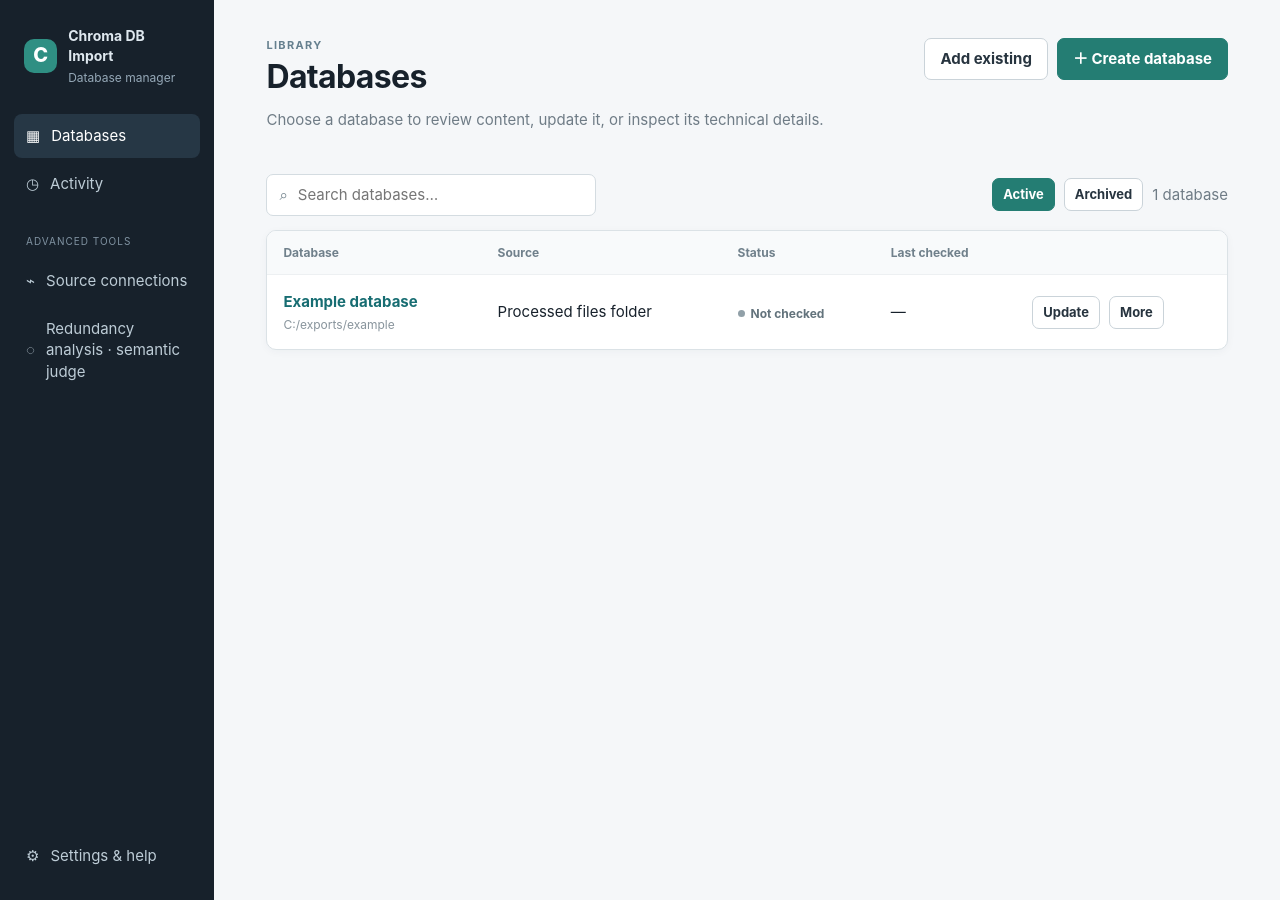
Test case: modern database creation flow › offers a non-persistent content selection for an update review
Expected: the button "Example database" is shown, x1=283 y1=291 x2=418 y2=313
Click the button "Update".
click(1066, 312)  # box x1=1032 y1=296 x2=1100 y2=328
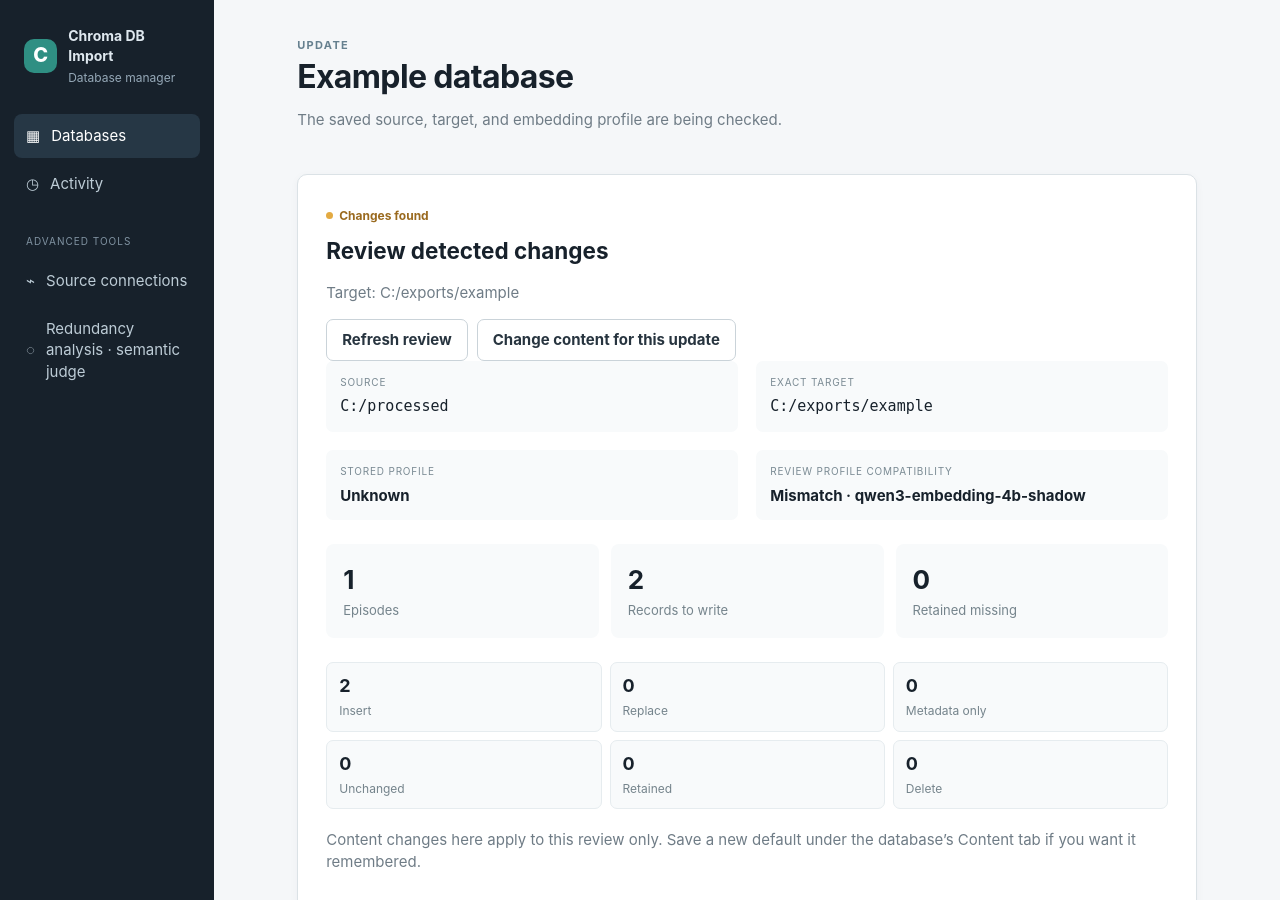
Expected: the button "Change content for this update" is shown
Click the button "Change content for this update".
click(606, 340)  # box x1=477 y1=319 x2=736 y2=361
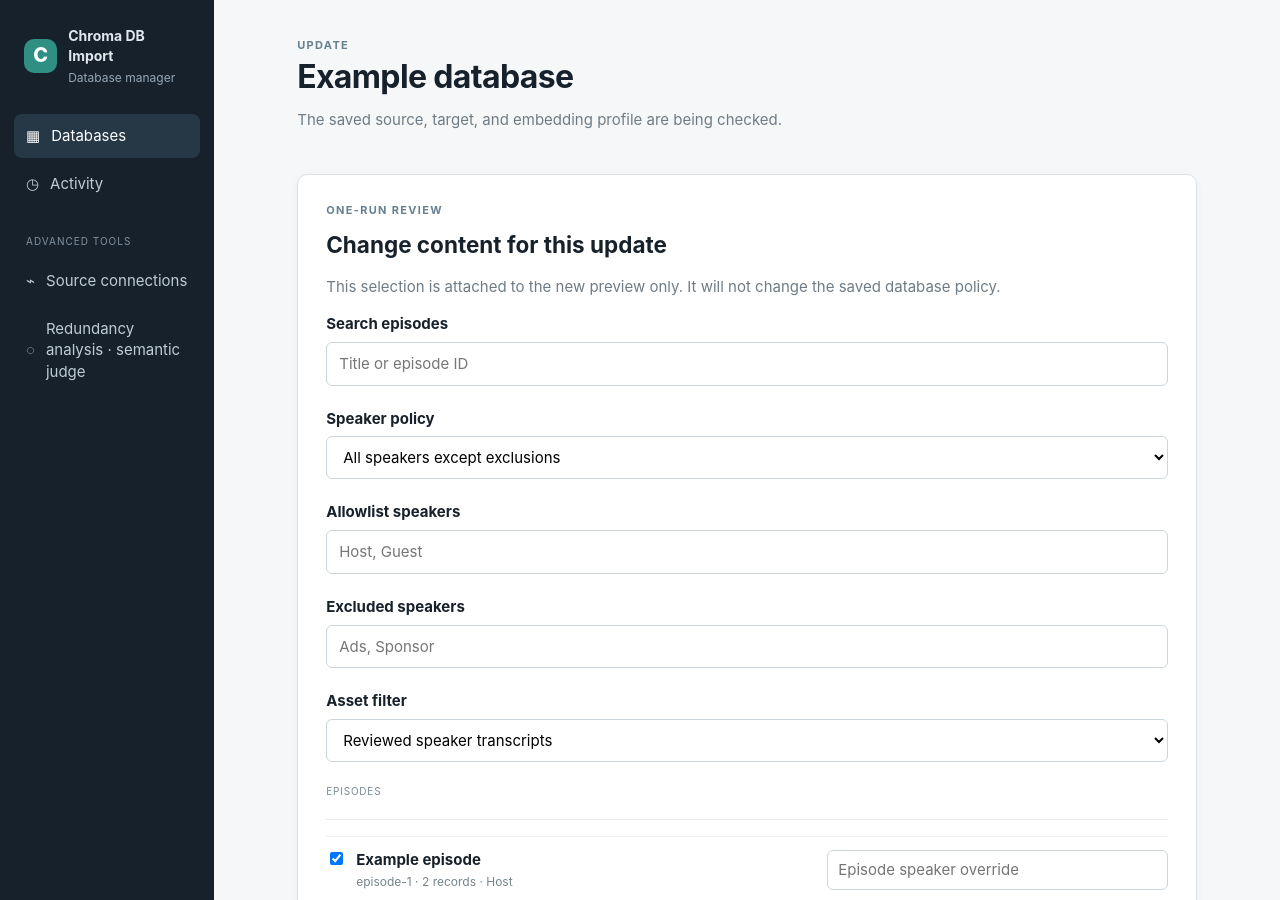
Expected: the heading "Change content for this update" is shown, x1=326 y1=231 x2=667 y2=258
Expected: the text "will not change the saved database policy" is shown, x1=326 y1=277 x2=1001 y2=296
